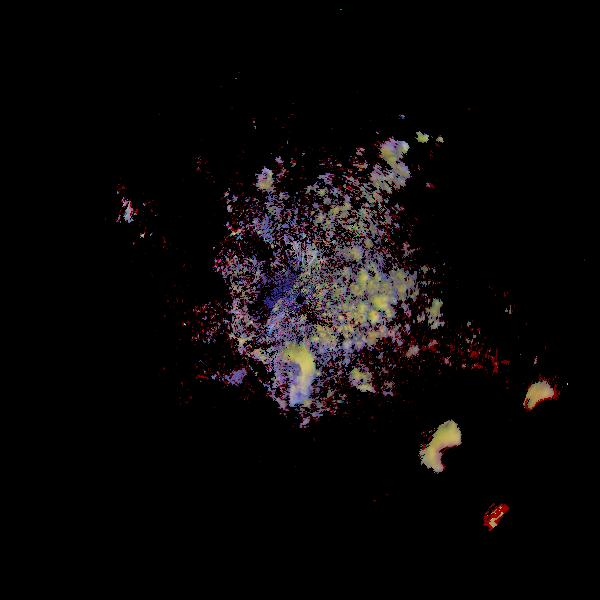roost: (420, 414, 504, 498), (263, 342, 329, 408), (520, 380, 577, 437), (480, 498, 528, 546), (254, 164, 284, 194)
